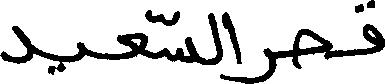X: (166, 6, 197, 67), (293, 24, 330, 73), (118, 6, 147, 64), (0, 21, 32, 68), (224, 7, 241, 83), (363, 0, 384, 59), (251, 43, 275, 83), (210, 8, 222, 83), (78, 37, 86, 65)
